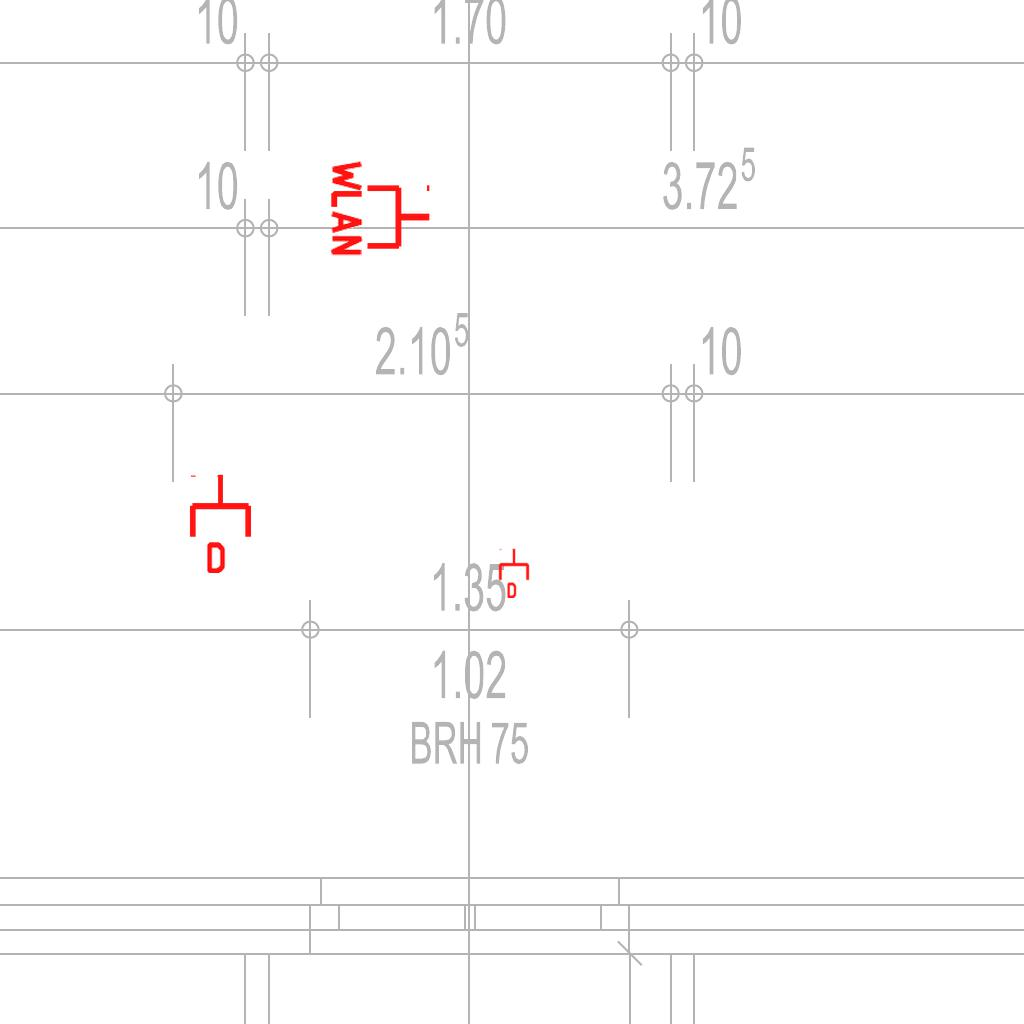Datenanschluss_einfach: (186, 473, 255, 573), (497, 548, 531, 598)
WLAN: (329, 156, 434, 260)
